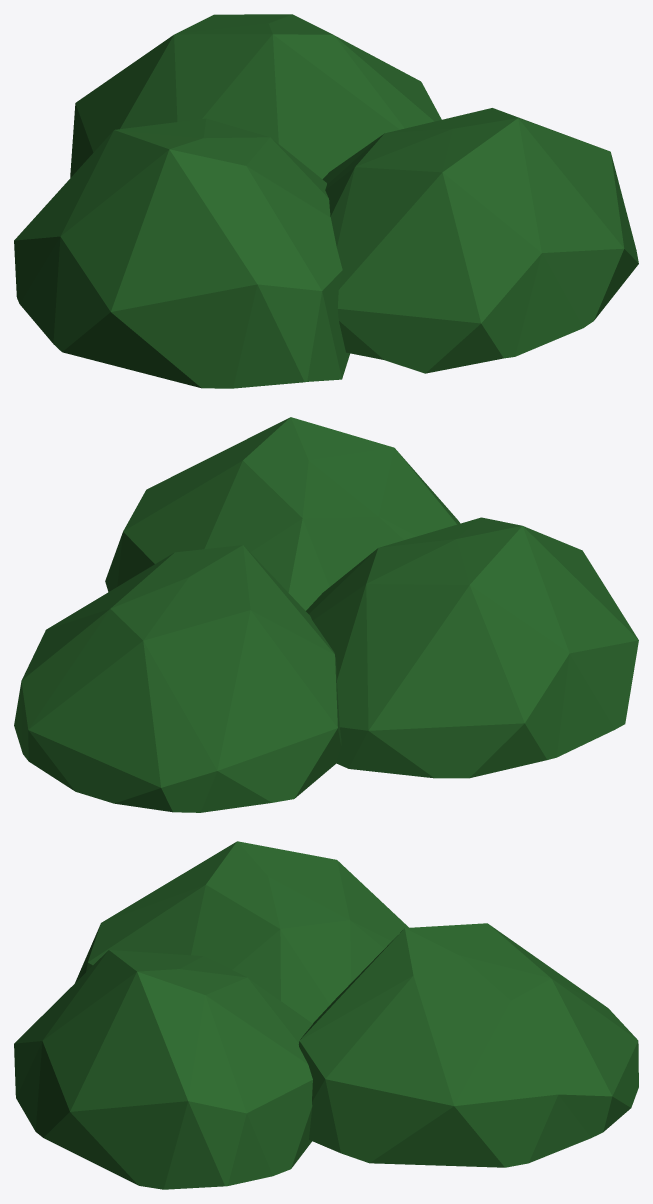
The model's file is Bush2.1.fbx.
3 renders of one model, top to bottom at view 1: azimuth 30°, elevation 25°; view 2: azimuth 150°, elevation 25°; view 3: azimuth 270°, elevation 25°, orthographic. The views are drawn at different scales.
Visible parts, largest first — view 1: Bush2.1; view 2: Bush2.1; view 3: Bush2.1.
Boxes of the visible parts, box(x1,y1,x2,y2) form: Bush2.1: box(14, 14, 638, 388); Bush2.1: box(14, 417, 638, 812); Bush2.1: box(14, 841, 638, 1189).
Size of the model in its own units: 214 by 69.62 by 236.
